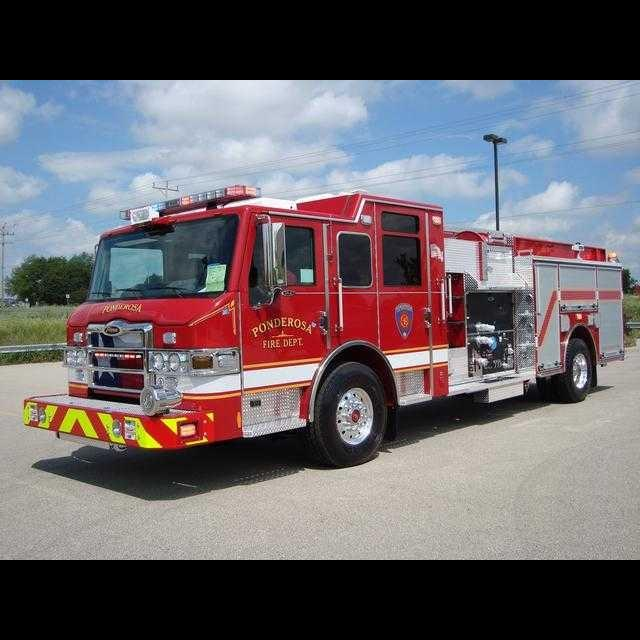emergency: (22, 184, 626, 466)
